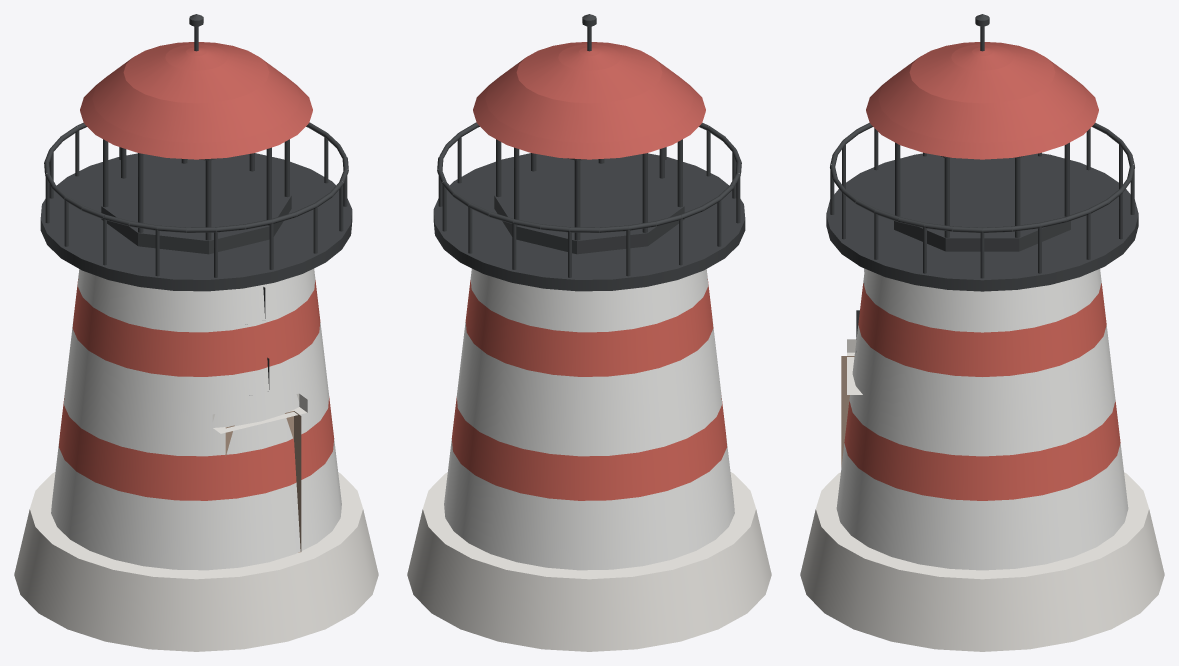
The model's file is HarborLighthouse.gltf.
The picture shows the model from 3 angles, left to right: view 1: azimuth 30°, elevation 25°; view 2: azimuth 150°, elevation 25°; view 3: azimuth 270°, elevation 25°; orthographic projection.
Visible parts, largest first — view 1: HarborLighthouse; view 2: HarborLighthouse; view 3: HarborLighthouse.
Boxes of the visible parts, x1,y1,x2,y2 form: HarborLighthouse: [14, 14, 378, 651]; HarborLighthouse: [407, 14, 771, 651]; HarborLighthouse: [800, 14, 1164, 651].
Bounding box in the file's own units: 3.5 × 5.94 × 3.5.
